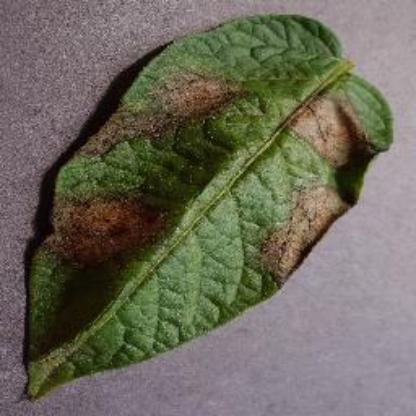Late-Blight: (16, 2, 406, 398)
